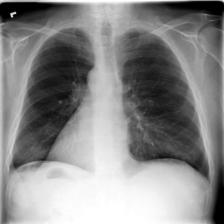normal: (4, 18, 214, 184)
